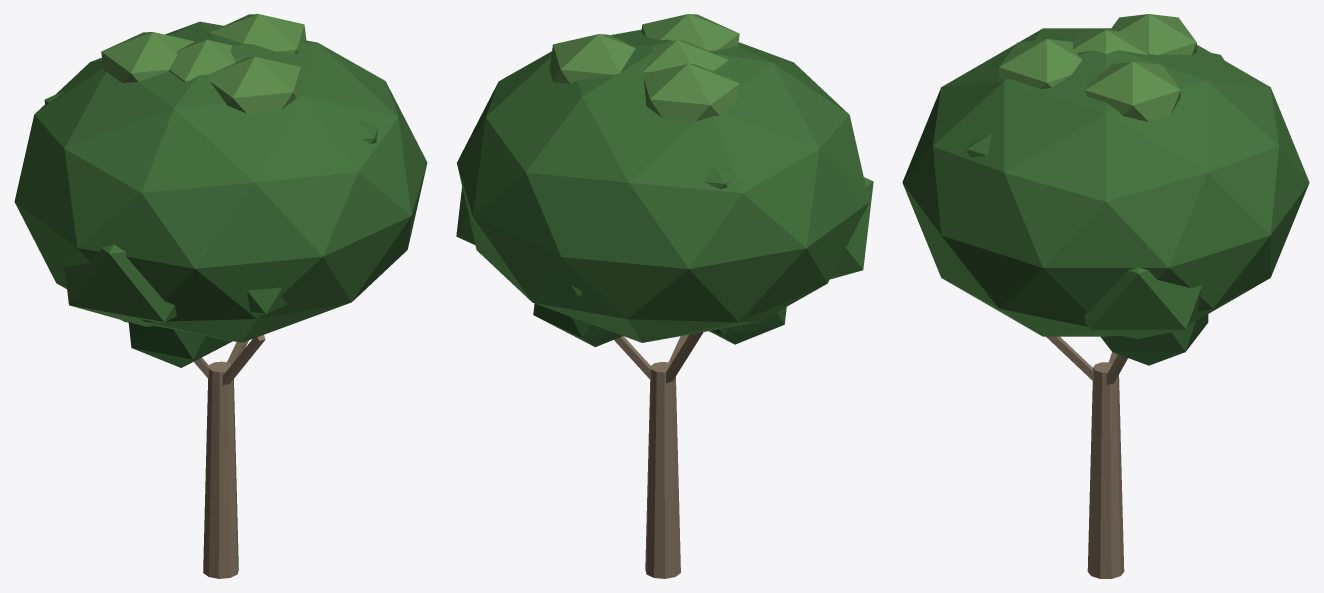
The model's file is leafy_tree_a.glb.
3 renders of one model, left to right at view 1: azimuth 30°, elevation 25°; view 2: azimuth 150°, elevation 25°; view 3: azimuth 270°, elevation 25°, orthographic.
Visible parts, largest first — view 1: leafy_tree_a; view 2: leafy_tree_a; view 3: leafy_tree_a.
Boxes of the visible parts, x1=… form: leafy_tree_a: x1=14, y1=14, x2=427, y2=578; leafy_tree_a: x1=456, y1=14, x2=873, y2=578; leafy_tree_a: x1=902, y1=14, x2=1309, y2=578.
Bounding box in the file's own units: 3.84 × 5.5 × 3.79.
